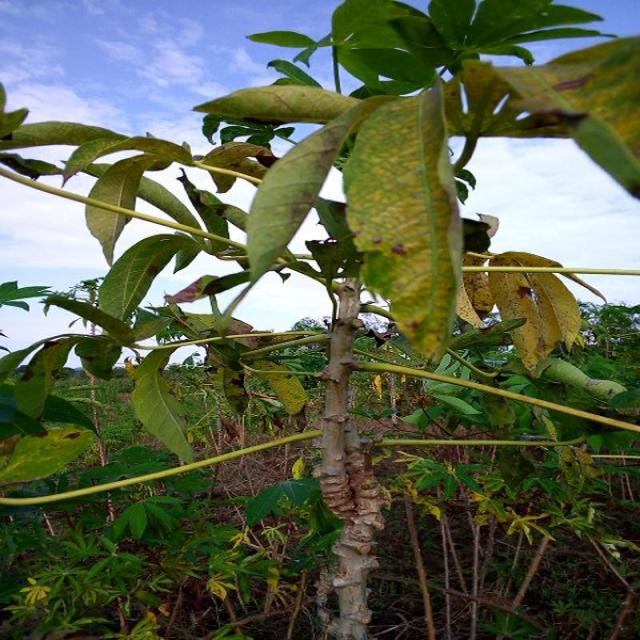cassava leaf: (342, 75, 464, 362), (244, 90, 394, 282), (486, 248, 584, 378)
